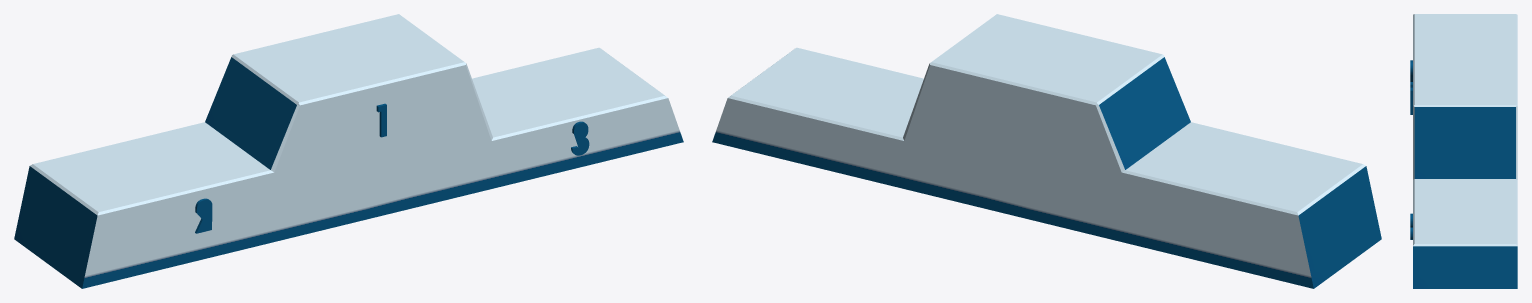
Rendered from Podium.FBX.
3 renders of one model, left to right at view 1: azimuth 30°, elevation 25°; view 2: azimuth 150°, elevation 25°; view 3: azimuth 270°, elevation 25°, orthographic. The views are drawn at different scales.
Parts seen in each view (by area): view 1: Podium; view 2: Podium; view 3: Podium.
Part boxes in pixels (left/top/right/bottom): Podium: left=14, top=14, right=683, bottom=288; Podium: left=712, top=14, right=1381, bottom=288; Podium: left=1410, top=14, right=1517, bottom=288.
Size of the model in its own units: 65.76 by 13.83 by 13.18.
